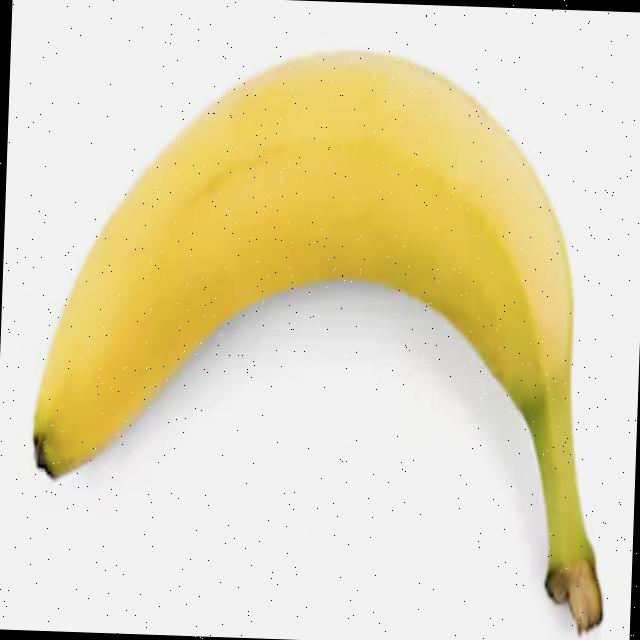Ripe: (24, 19, 594, 518)
